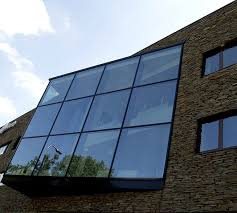glass panel: (111, 124, 169, 177), (68, 130, 118, 176), (125, 80, 175, 125), (34, 134, 78, 175), (84, 90, 129, 130), (135, 46, 180, 85), (6, 137, 45, 174), (51, 97, 91, 133), (97, 57, 138, 92), (66, 66, 103, 99), (24, 103, 60, 136), (40, 75, 73, 104), (200, 121, 218, 151), (223, 116, 236, 147), (205, 53, 219, 74), (223, 46, 236, 67)
